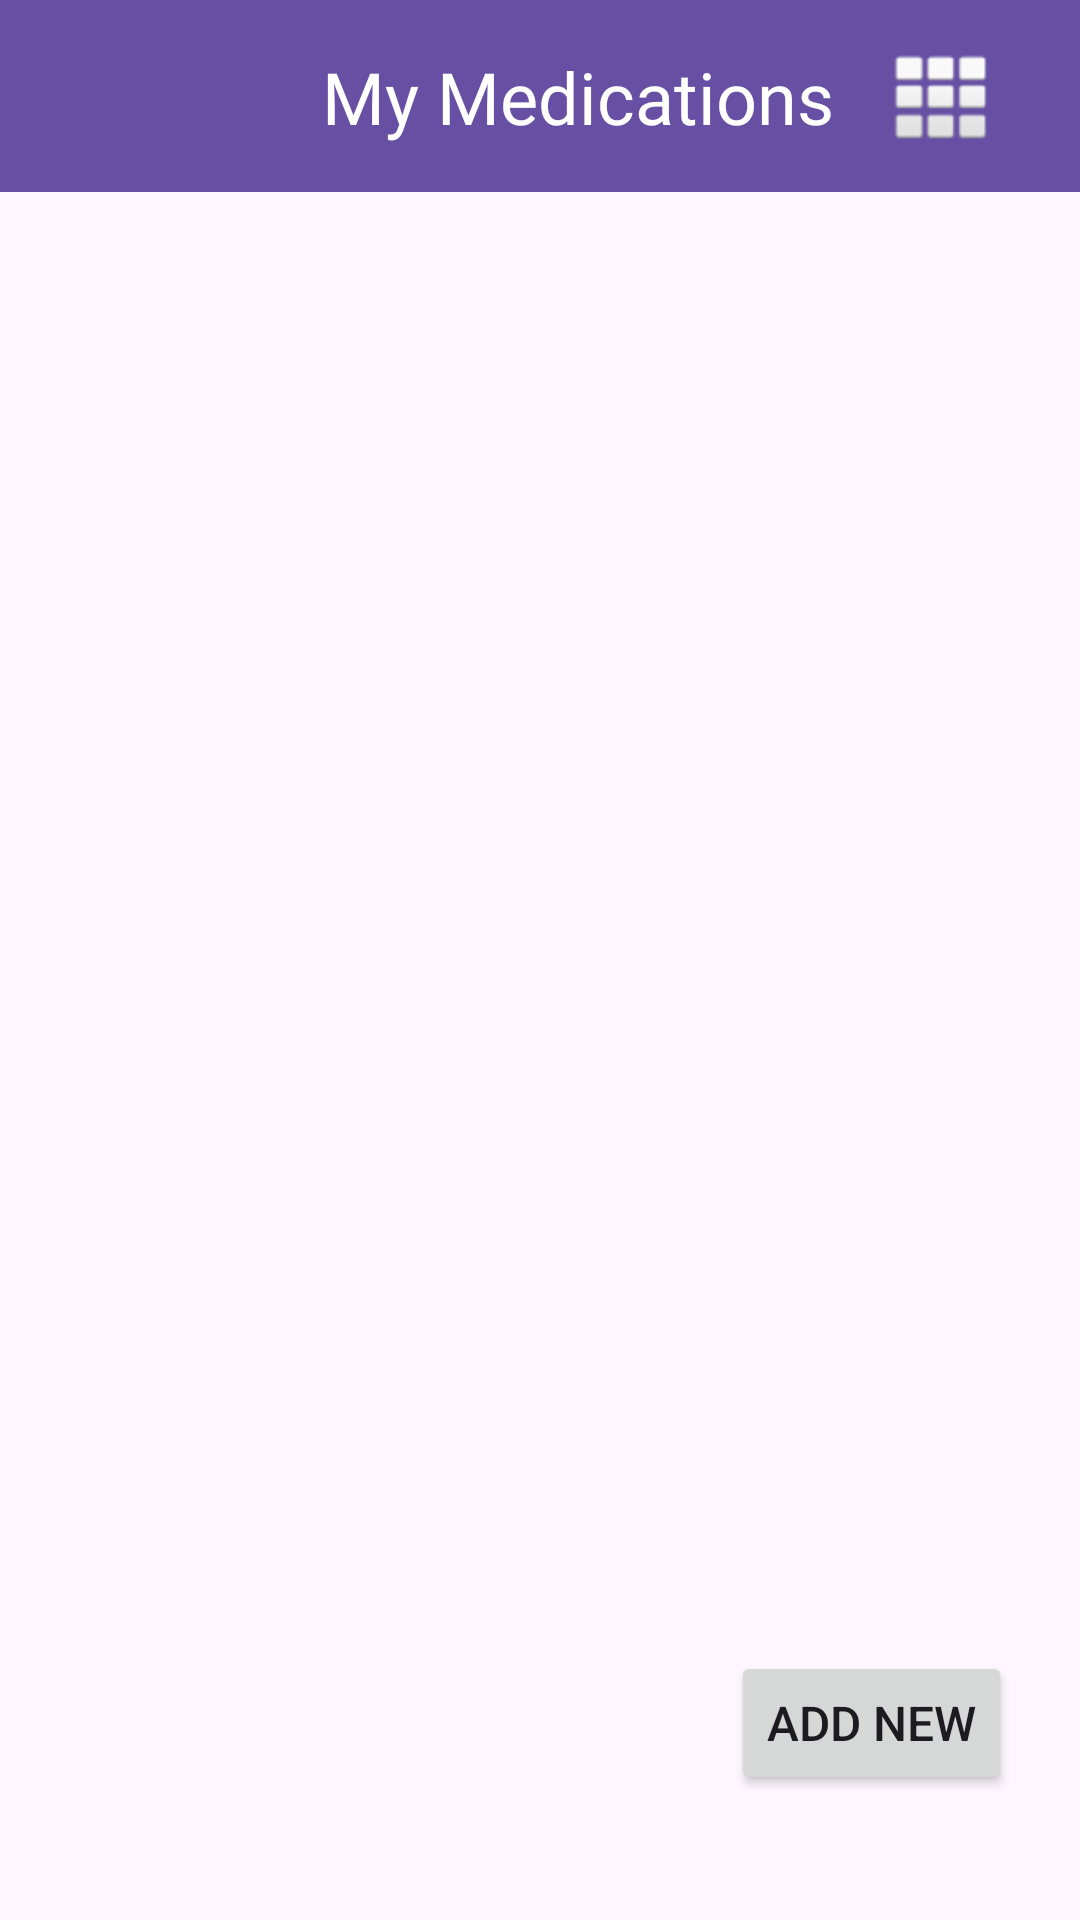

Icon bounding boxes for this 1080px×1920px phone screenshot, format (left=x1, top=y1, right=x2, bottom=y2):
dialer: (left=895, top=56, right=986, bottom=138)
